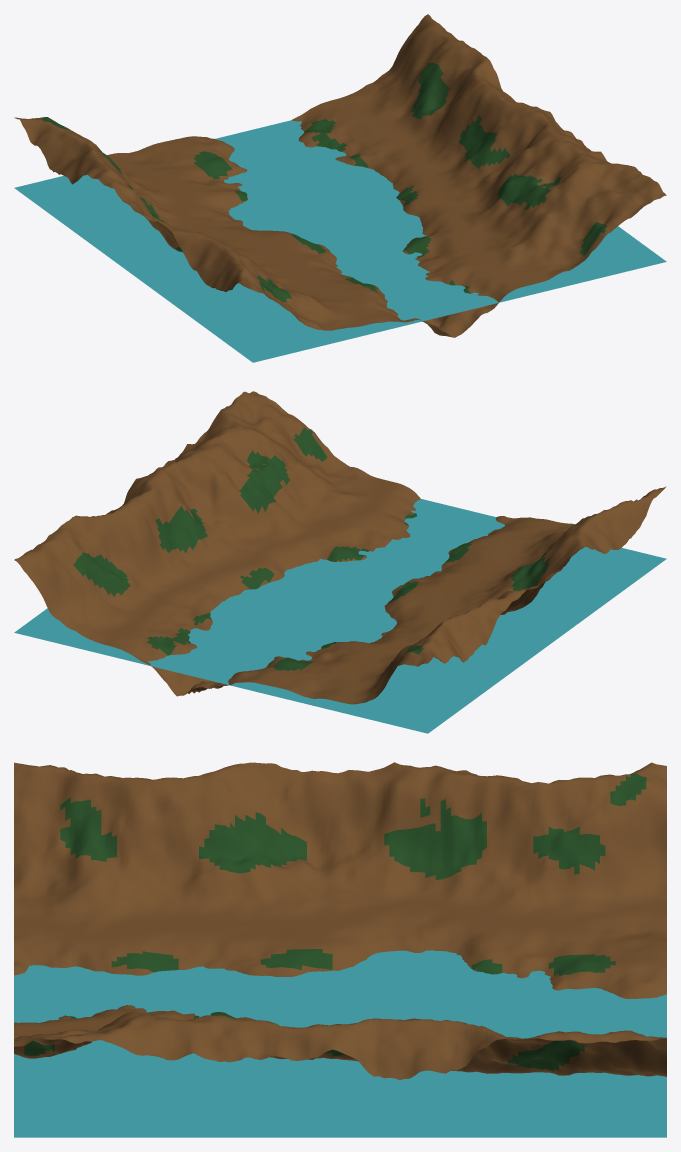
File: river bg.fbx
The picture shows the model from 3 angles, top to bottom: view 1: azimuth 30°, elevation 25°; view 2: azimuth 150°, elevation 25°; view 3: azimuth 270°, elevation 25°; orthographic projection. The views are drawn at different scales.
Parts seen in each view (by area): view 1: Landscape.004, Landscape_plane.001; view 2: Landscape.004, Landscape_plane.001; view 3: Landscape.004, Landscape_plane.001.
Part boxes in pixels (x1,y1,x2,y2): Landscape.004: [14, 14, 666, 337]; Landscape_plane.001: [14, 120, 666, 362]; Landscape.004: [14, 391, 666, 704]; Landscape_plane.001: [14, 499, 666, 733]; Landscape.004: [14, 762, 666, 1079]; Landscape_plane.001: [14, 950, 666, 1137].
Size of the model in its own units: 2000 by 450 by 2000.
